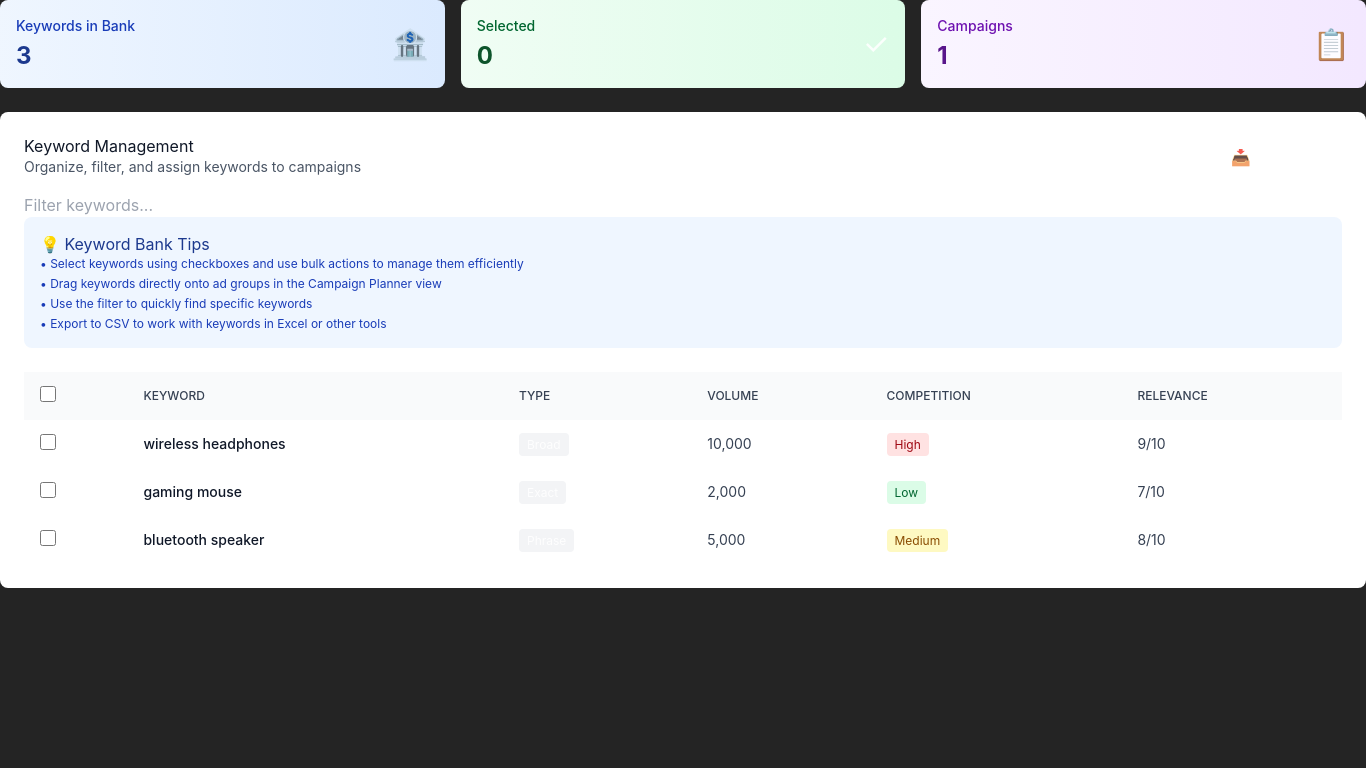
KeywordBank › Rendering & filtering › shows message when no keywords match filter
Type "zzz" into the field with placeholder "Filter keywords..." at (683, 205), box [24, 193, 1342, 217]
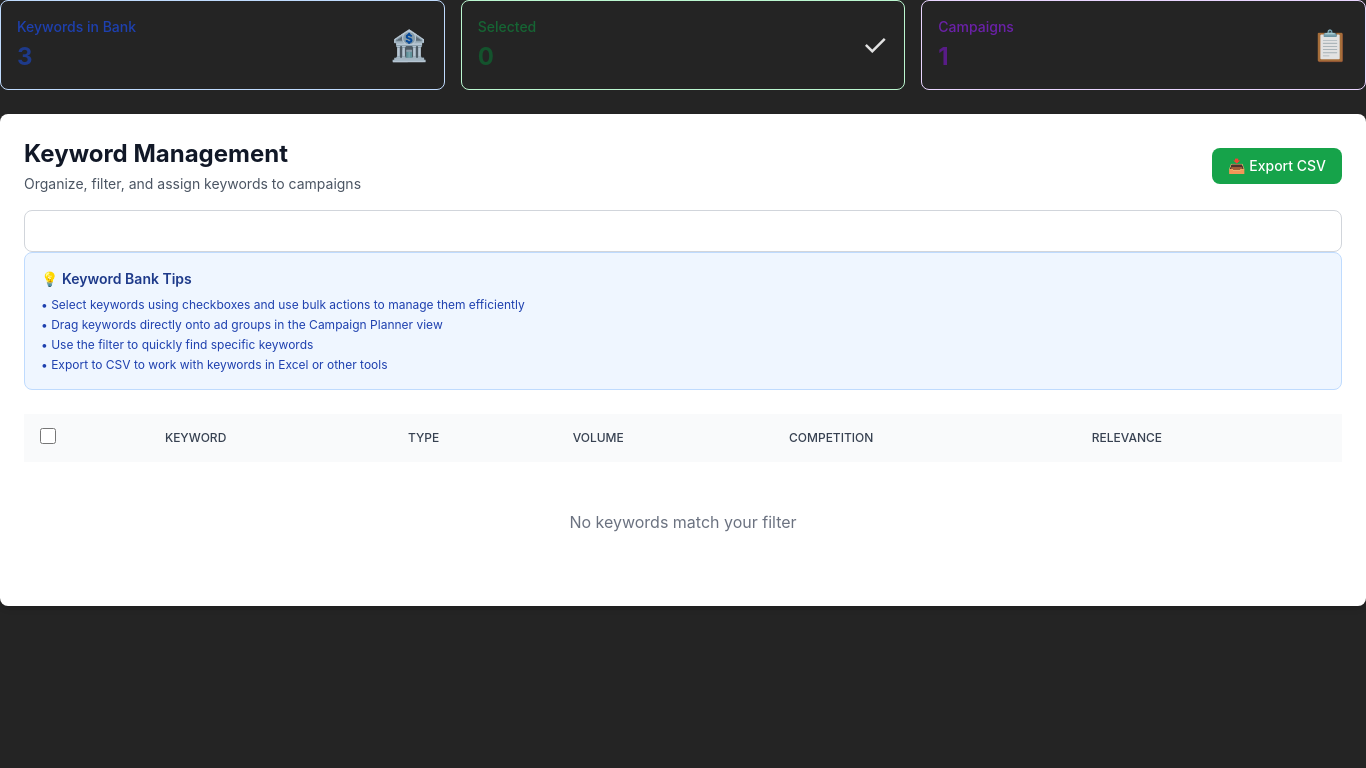
Expected: the text "No keywords match your filter" is shown, [569, 512, 797, 532]
